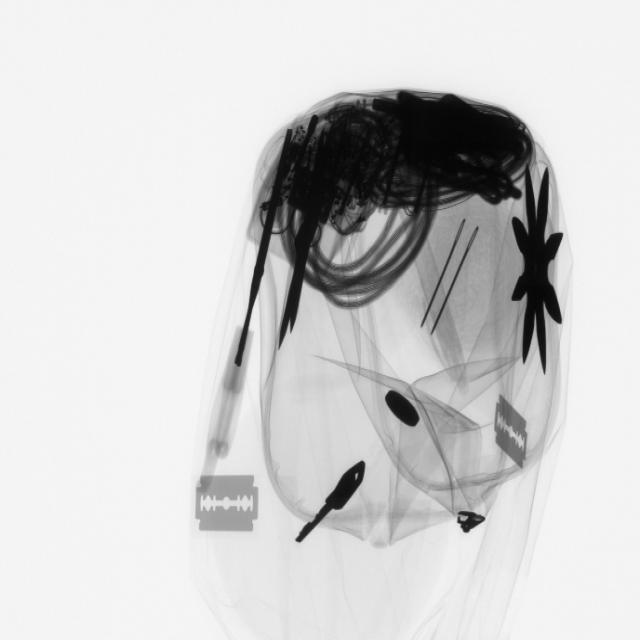BLADE: (188, 463, 270, 548), (489, 392, 535, 475)
SHURIKEN: (502, 154, 573, 378)
